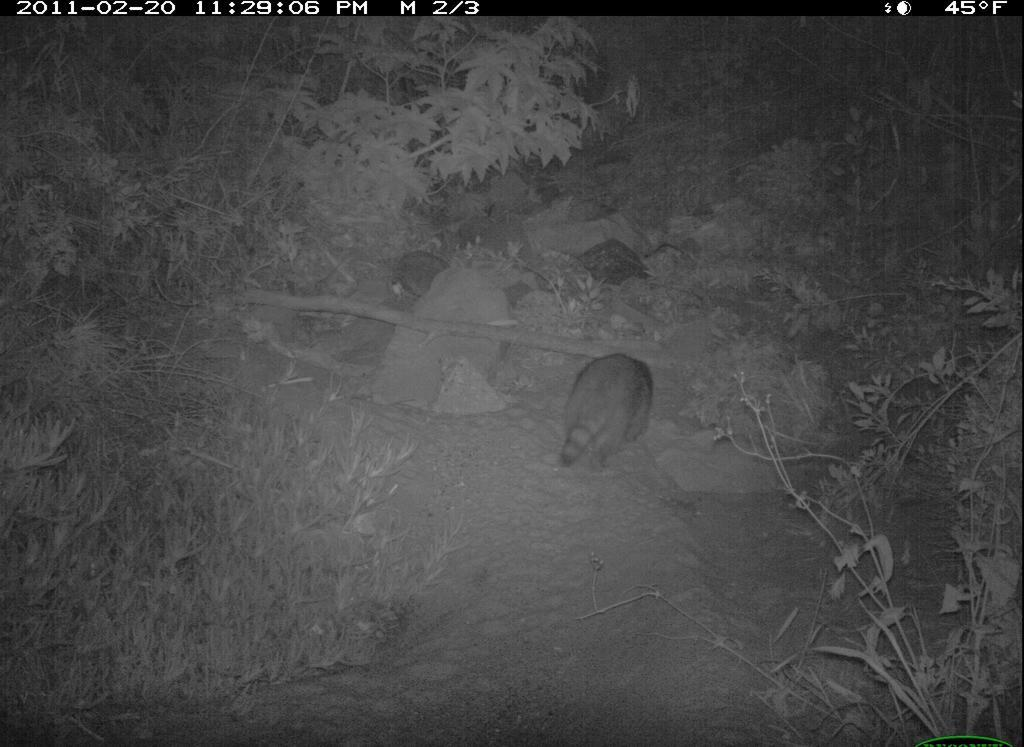raccoon: (530, 329, 685, 497)
